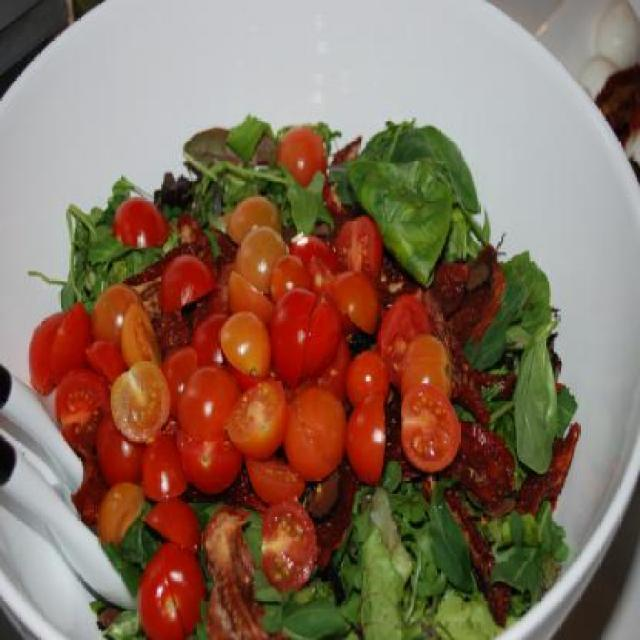Tomato: (28, 194, 460, 640), (112, 195, 170, 248), (278, 126, 324, 188)
